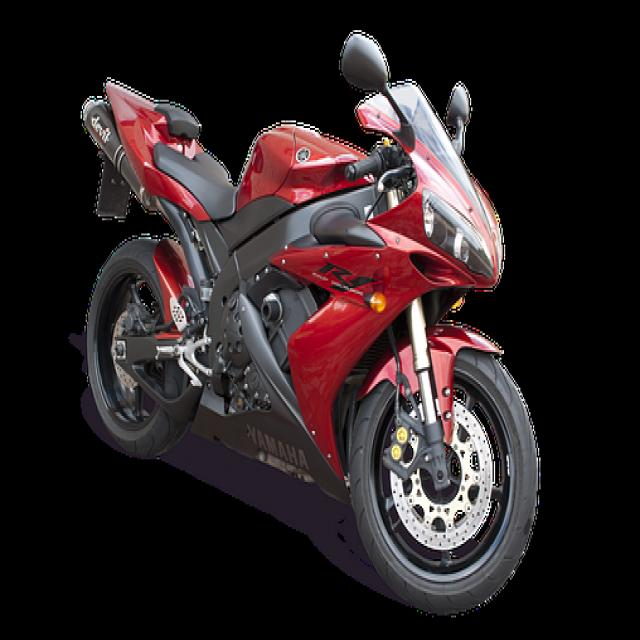Bike: (86, 30, 539, 603)
